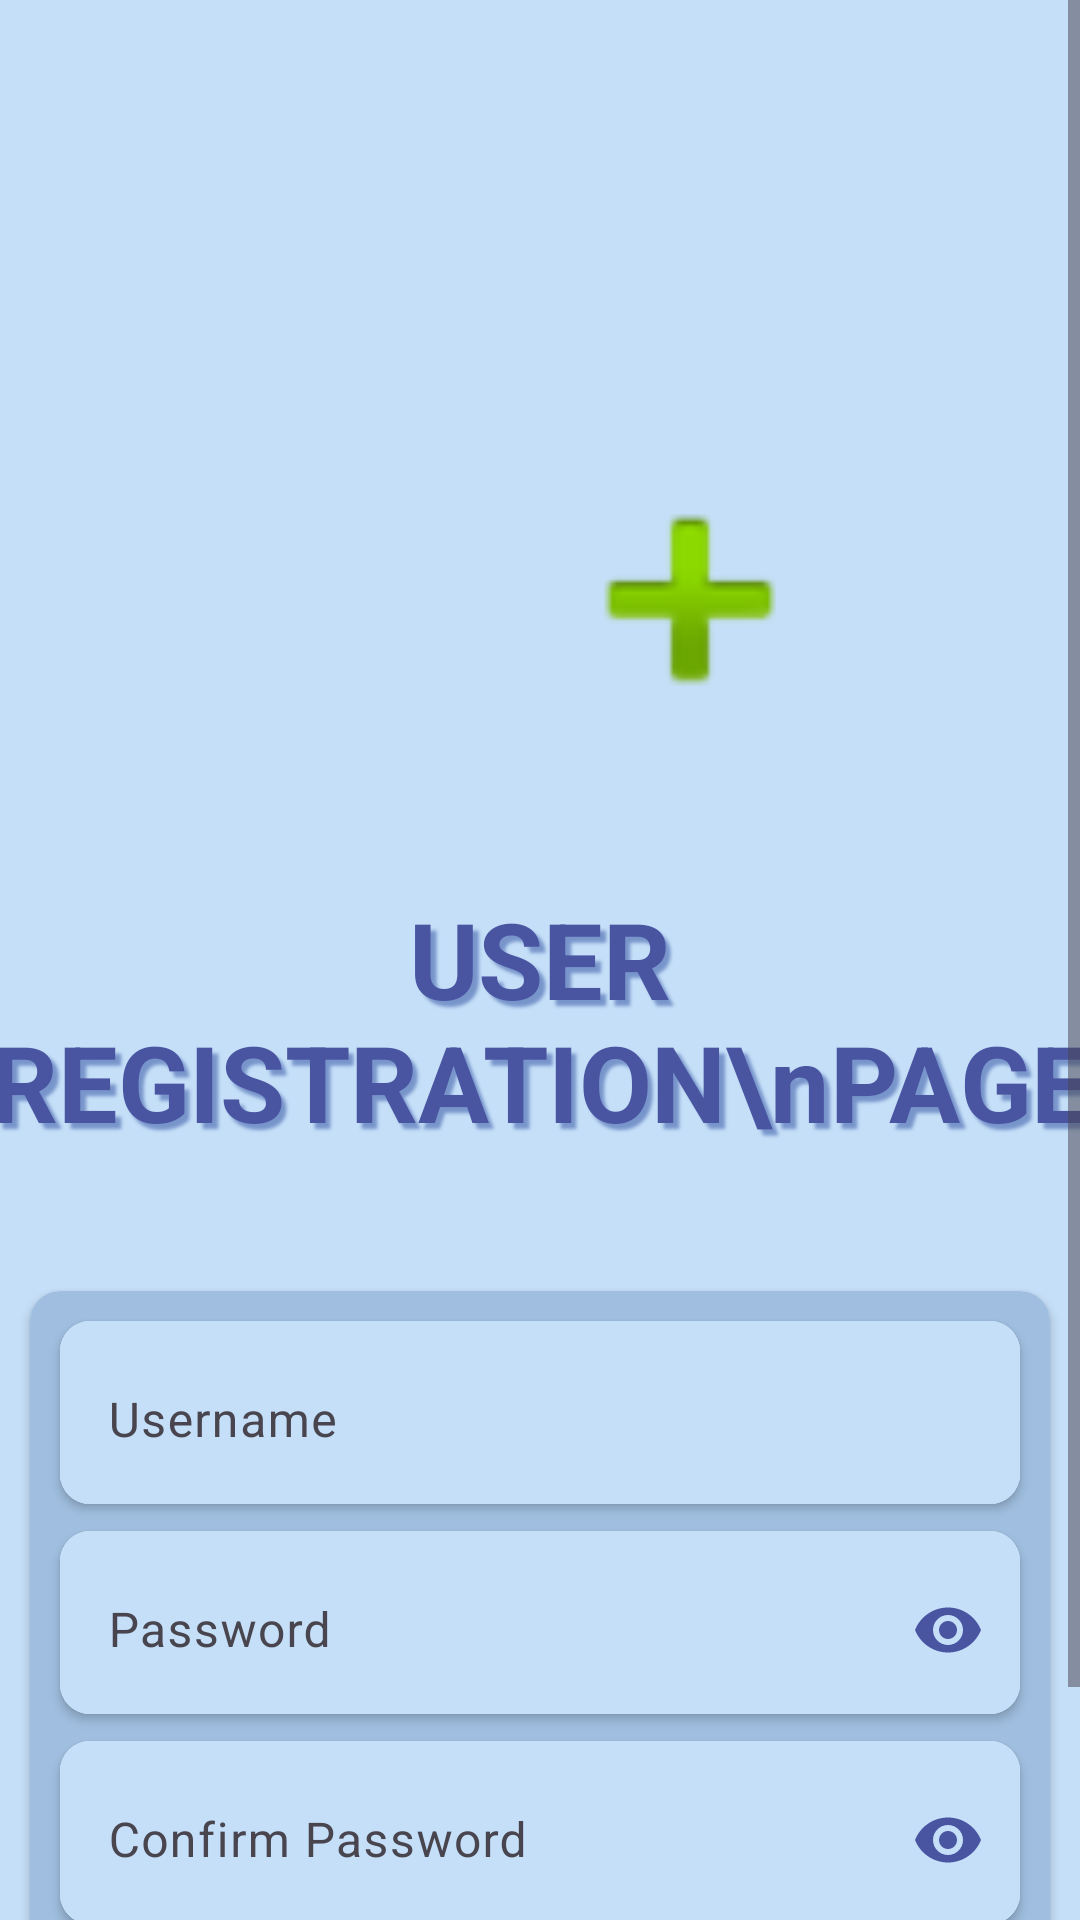

Locate icon controls on the screen. Image size 1080 × 1920, boxes as [x1=x1, y1=y1, x2=x2, y2=y2].
add: [x1=604, y1=515, x2=776, y2=685]
